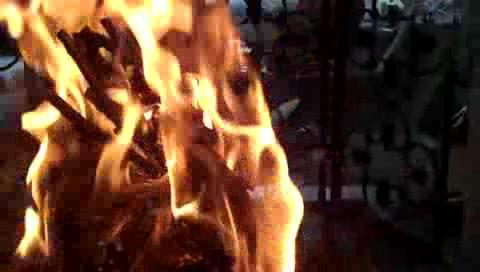fire: (0, 0, 295, 268)
